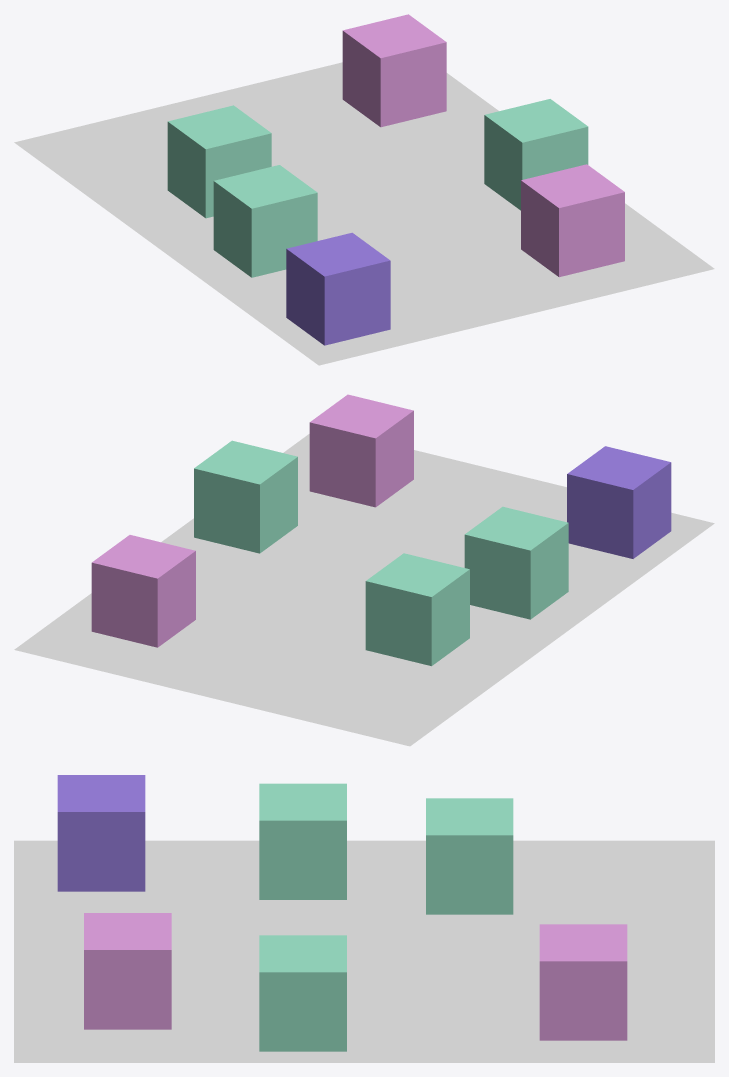
The model's file is world.glb.
3 renders of one model, top to bottom at view 1: azimuth 30°, elevation 25°; view 2: azimuth 150°, elevation 25°; view 3: azimuth 270°, elevation 25°, orthographic. The views are drawn at different scales.
Visible parts, largest first — view 1: Plane.005, Cube.001, Cube.003, Cube.002, Cube.004, Plane.010, Plane.007, Cube, Cube.005, Plane.003, Plane.009, Plane.011 (+6 smaller); view 2: Plane.011, Plane.010, Cube, Cube.002, Cube.003, Cube.001, Cube.005, Cube.004, Plane.005, Plane.009, Plane, Plane.008 (+6 smaller); view 3: Plane.003, Plane.009, Plane.010, Cube.001, Cube.003, Cube, Cube.002, Cube.004, Cube.005, Plane.001, Plane, Plane.007 (+6 smaller).
Part boxes in pixels (<box>): Plane.005: <box>390,245,582,333</box>; Cube.001: <box>286,232,390,345</box>; Cube.003: <box>342,14,446,127</box>; Cube.002: <box>521,164,624,277</box>; Cube.004: <box>213,165,317,277</box>; Plane.010: <box>14,110,167,198</box>; Plane.007: <box>317,189,506,273</box>; Cube: <box>167,105,271,218</box>; Cube.005: <box>484,99,588,210</box>; Plane.003: <box>354,101,498,189</box>; Plane.009: <box>271,134,429,216</box>; Plane.011: <box>146,78,353,153</box>; Plane.011: <box>146,626,353,714</box>; Plane.010: <box>278,658,485,746</box>; Cube: <box>365,553,469,666</box>; Cube.002: <box>309,394,413,507</box>; Cube.003: <box>91,535,195,647</box>; Cube.001: <box>567,446,671,558</box>; Cube.005: <box>194,440,297,553</box>; Cube.004: <box>464,506,568,619</box>; Plane.005: <box>375,459,566,536</box>; Plane.009: <box>222,570,365,658</box>; Plane: <box>14,594,221,681</box>; Plane.008: <box>354,612,561,690</box>; Plane.003: <box>364,988,539,1062</box>; Plane.009: <box>364,914,539,988</box>; Plane.010: <box>539,840,714,914</box>; Cube.001: <box>57,775,145,891</box>; Cube.003: <box>539,924,627,1040</box>; Cube: <box>426,798,513,914</box>; Cube.002: <box>84,913,171,1029</box>; Cube.004: <box>259,783,346,899</box>; Cube.005: <box>259,935,346,1051</box>; Plane.001: <box>14,988,189,1062</box>; Plane: <box>539,988,714,1062</box>; Plane.007: <box>189,914,364,988</box>.
Bounding box in the file's own units: 60 × 10 × 80.
